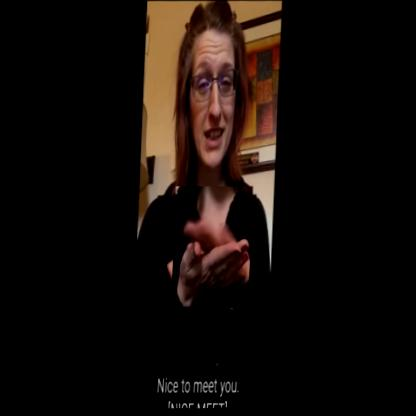NiceToMeetYou: (172, 185, 253, 311)
